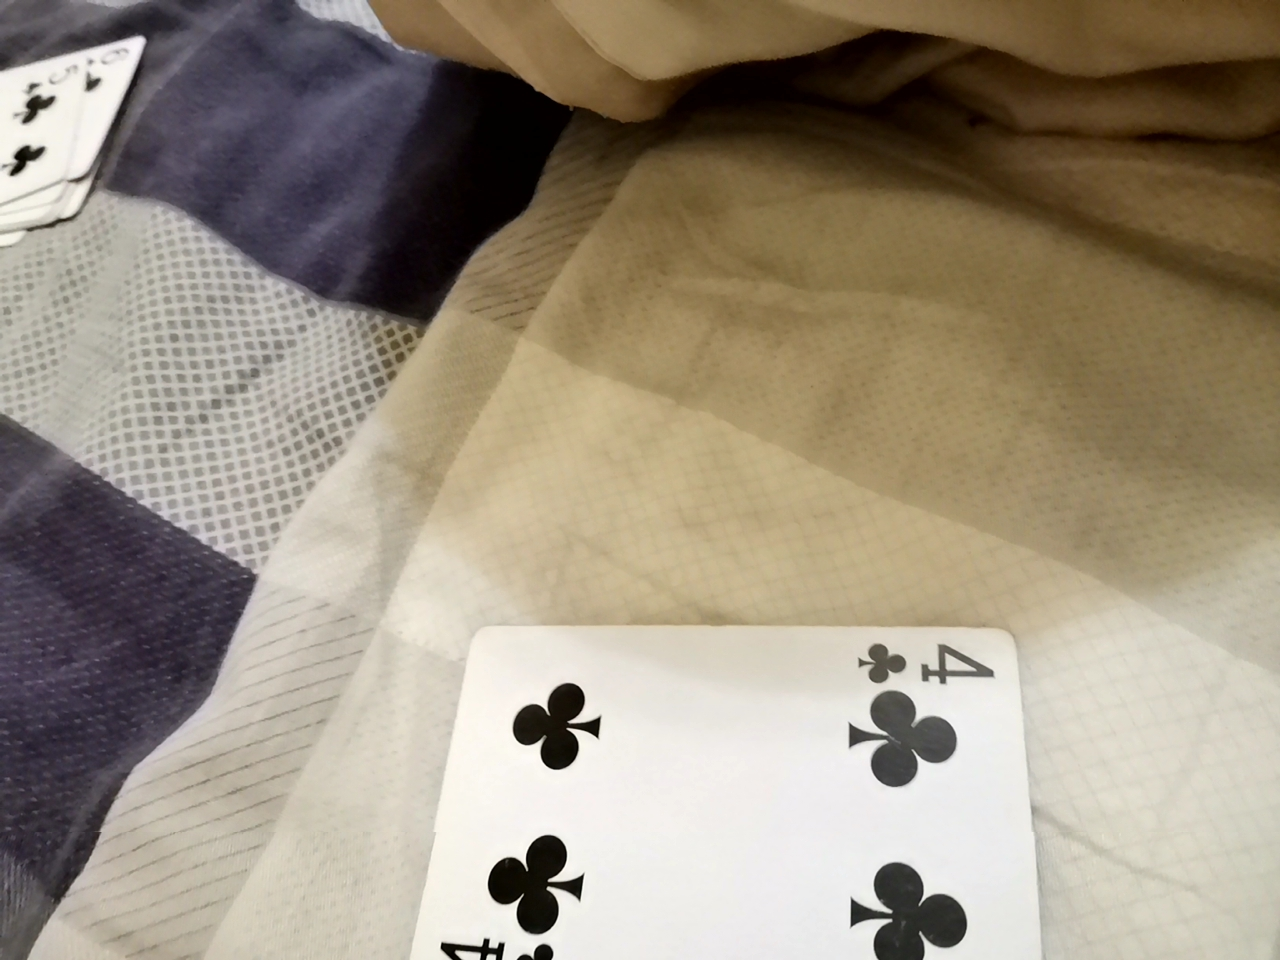mh 4: (411, 610, 1050, 959)
